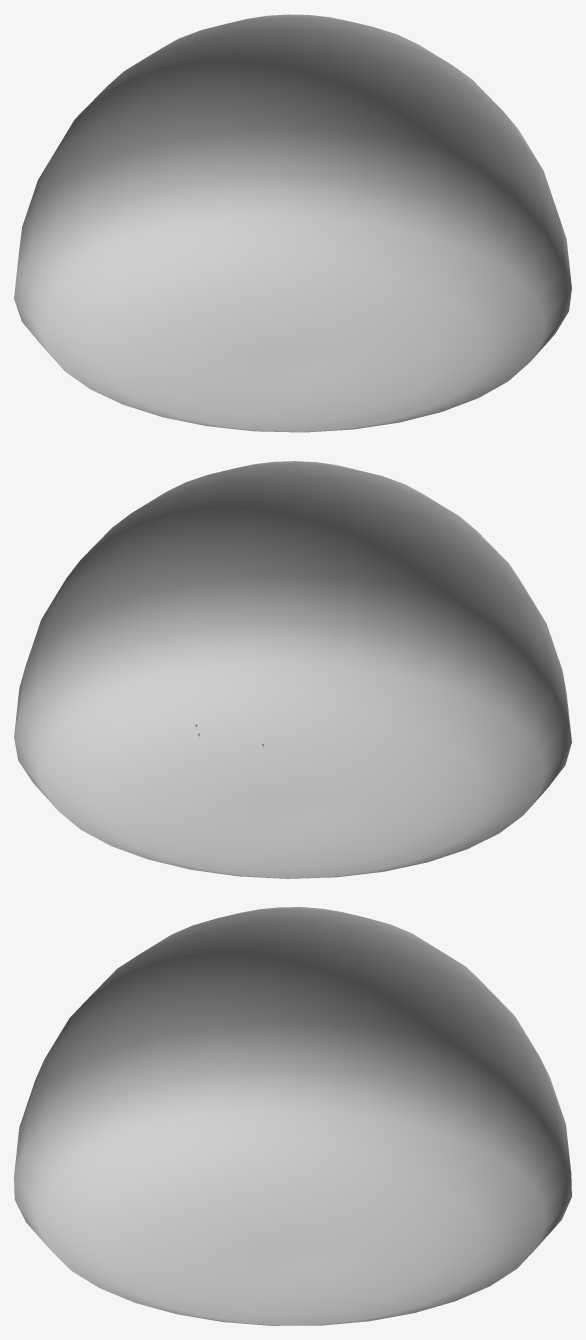
The model's file is new3dgs.gltf.
3 views of the same model, one above another, from view 1: azimuth 30°, elevation 25°; view 2: azimuth 150°, elevation 25°; view 3: azimuth 270°, elevation 25° (orthographic).
Parts seen in each view (by area): view 1: Sphere002; view 2: Sphere002; view 3: Sphere002.
Boxes of the visible parts, x1=… form: Sphere002: x1=14, y1=14, x2=571, y2=432; Sphere002: x1=14, y1=461, x2=571, y2=878; Sphere002: x1=14, y1=907, x2=571, y2=1325.
Size of the model in its own units: 796 by 513 by 796.
